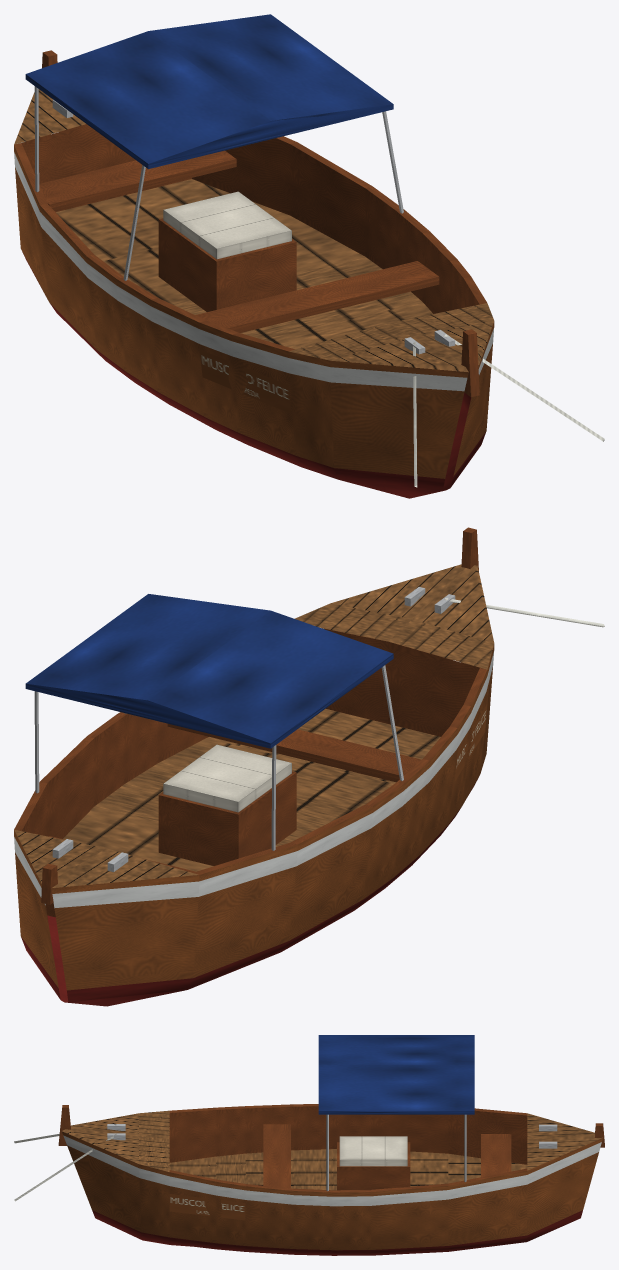
File: SM_Morin_Barca_Gozzo_Legno_Prua_LOD1.fbx
The picture shows the model from 3 angles, top to bottom: view 1: azimuth 30°, elevation 25°; view 2: azimuth 150°, elevation 25°; view 3: azimuth 270°, elevation 25°; orthographic projection. The views are drawn at different scales.
Parts seen in each view (by area): view 1: SM_Morin_Barca_Gozzo_Legno_Prua_LOD1; view 2: SM_Morin_Barca_Gozzo_Legno_Prua_LOD1; view 3: SM_Morin_Barca_Gozzo_Legno_Prua_LOD1.
Boxes of the visible parts, x1=… form: SM_Morin_Barca_Gozzo_Legno_Prua_LOD1: x1=14, y1=14, x2=604, y2=498; SM_Morin_Barca_Gozzo_Legno_Prua_LOD1: x1=14, y1=527, x2=604, y2=1006; SM_Morin_Barca_Gozzo_Legno_Prua_LOD1: x1=14, y1=1035, x2=604, y2=1255.
Size of the model in its own units: 229 by 644 by 222.
Materials: 1 (1 with a texture image).
